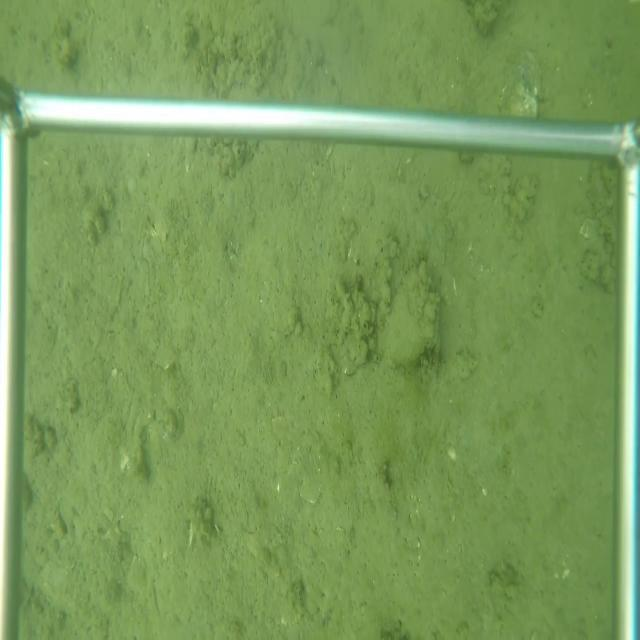Oyster-Indeterminate: (382, 258, 443, 374)
